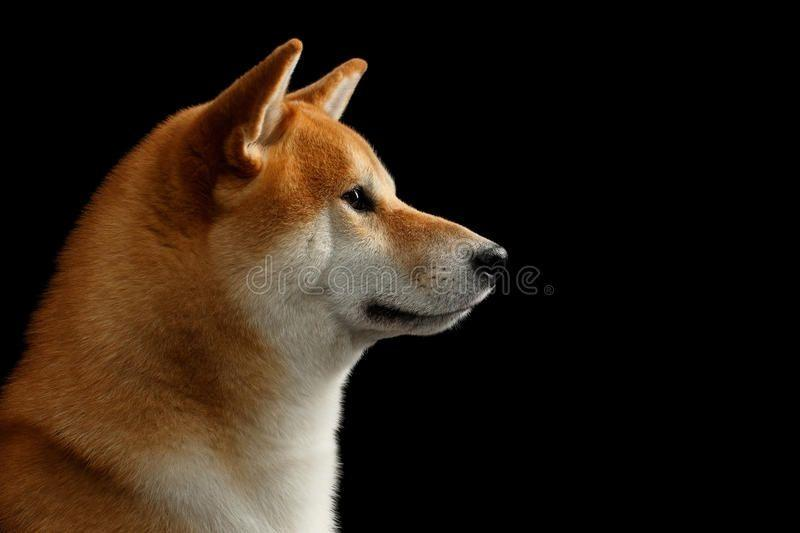adult_dog: (0, 37, 511, 533)
